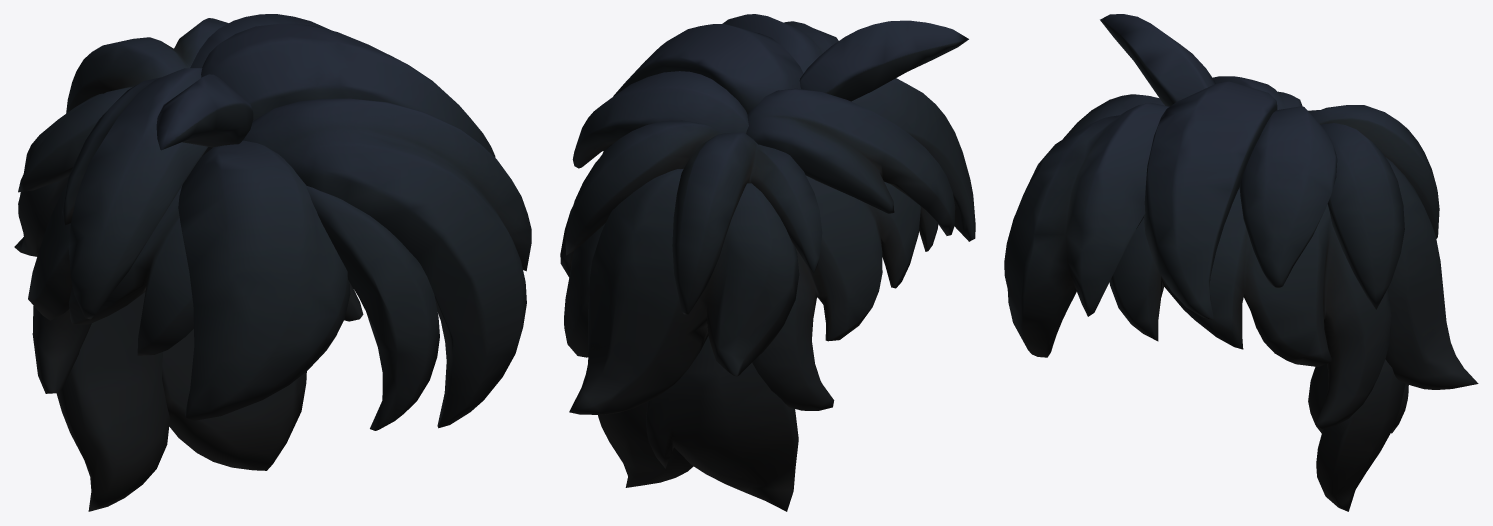
File: SM_HAIR_Mullet.fbx
3 views of the same model, side by side, from view 1: azimuth 30°, elevation 25°; view 2: azimuth 150°, elevation 25°; view 3: azimuth 270°, elevation 25° (orthographic). The views are drawn at different scales.
Parts seen in each view (by area): view 1: HAIR_Mullet; view 2: HAIR_Mullet; view 3: HAIR_Mullet.
Part boxes in pixels (left/top/right/bottom): HAIR_Mullet: left=14, top=14, right=531, bottom=511; HAIR_Mullet: left=560, top=14, right=975, bottom=511; HAIR_Mullet: left=1004, top=14, right=1478, bottom=511.
Bounding box in the file's own units: 66.84 × 76.92 × 79.96.
